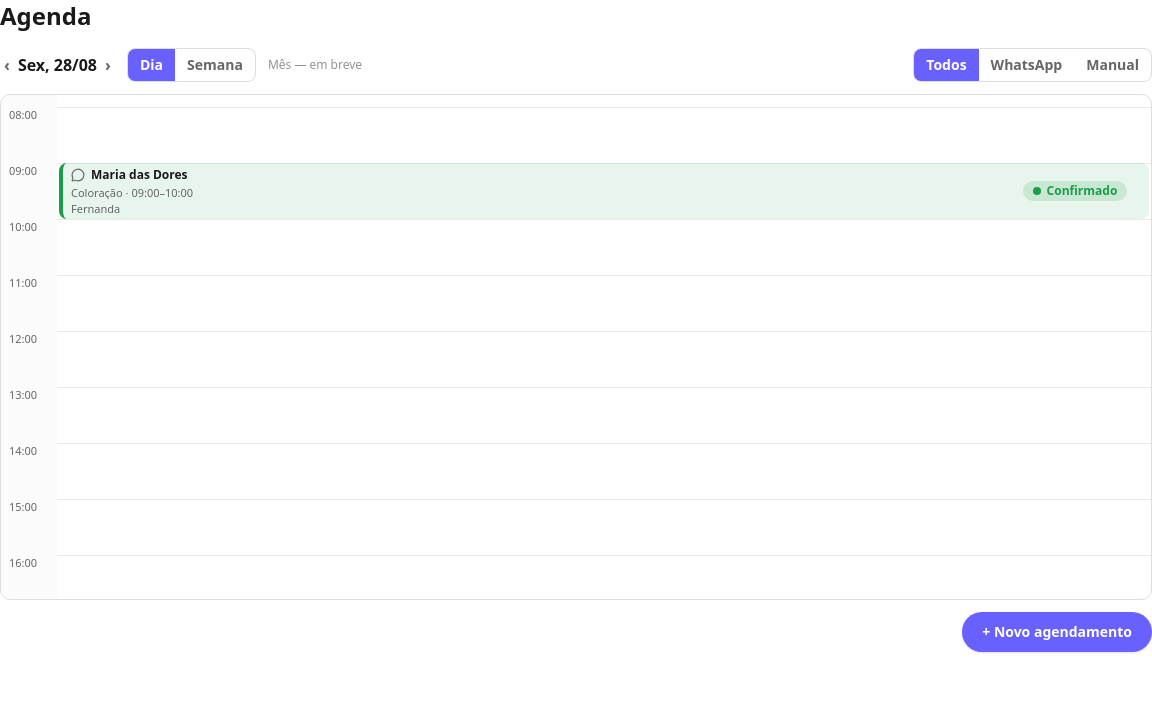
Scenario: Agenda › abre o detalhe read-only ao clicar num agendamento (D3)
The width and height of the screenshot is (1152, 720).
Click the text "Maria das Dores".
click(139, 175)  # box [91, 167, 188, 183]
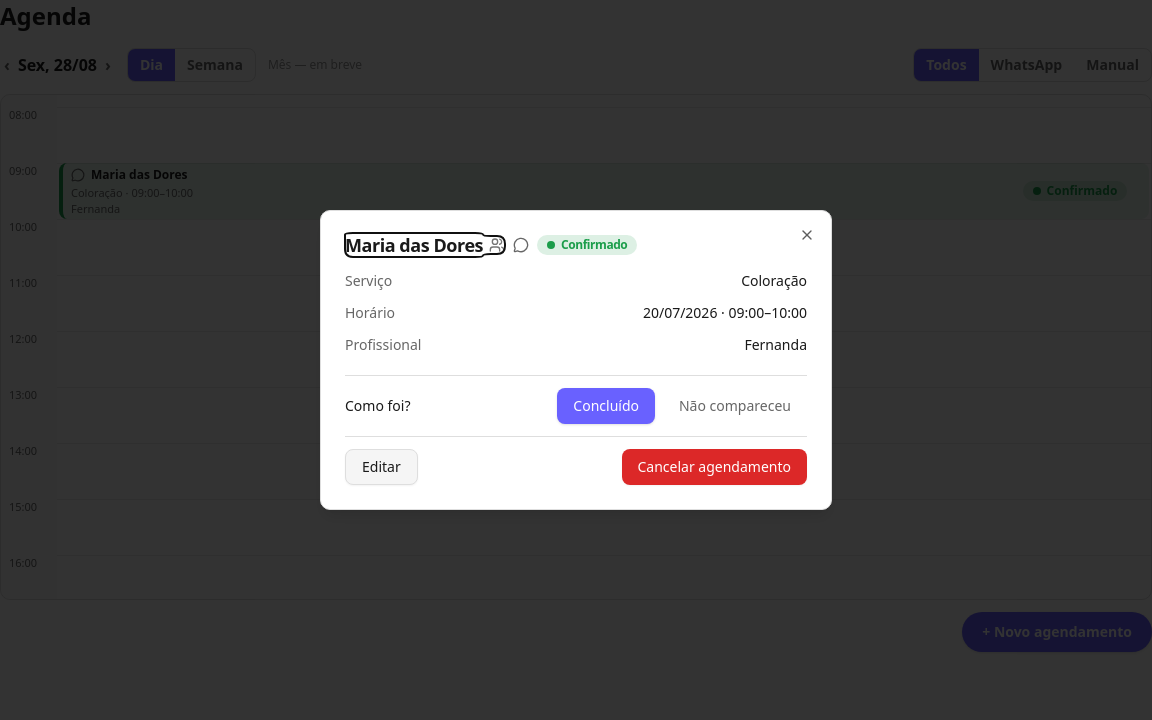
Check: the dialog shows "Coloração", box [741, 271, 807, 290]
Check: the dialog shows "Fernanda", box [744, 335, 807, 354]
Check: the icon named "WhatsApp" is shown, box [513, 237, 529, 253]
